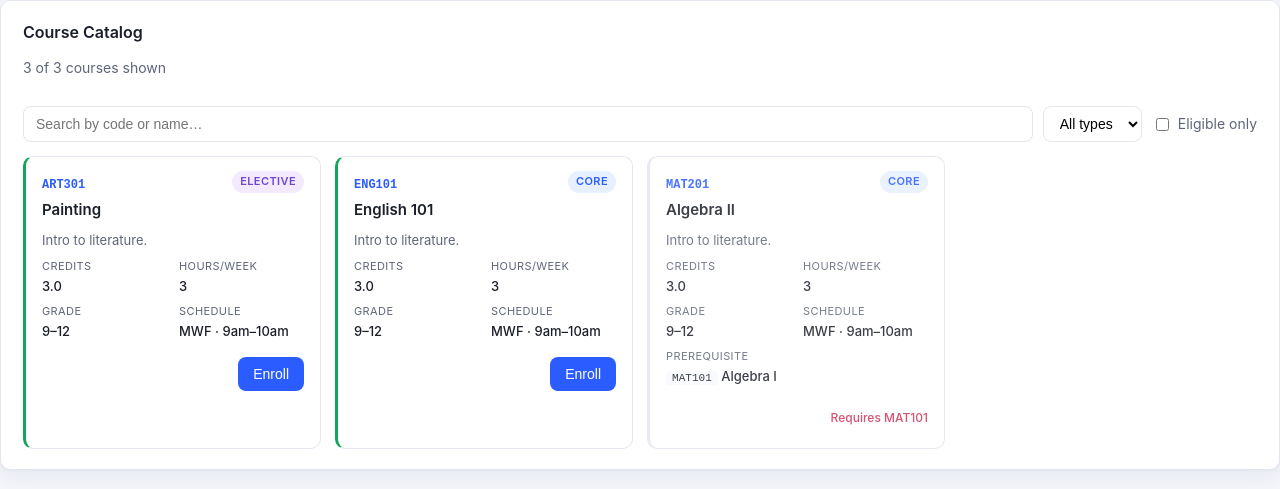
Test: CourseBrowser › filters by course type via the dropdown
This screenshot has width=1280, height=489.
Expected: the text "ENG101" is shown, [354,178,397,192]
Select "Elective" in the dropdown at (1092, 124), box [1043,106,1142,142]
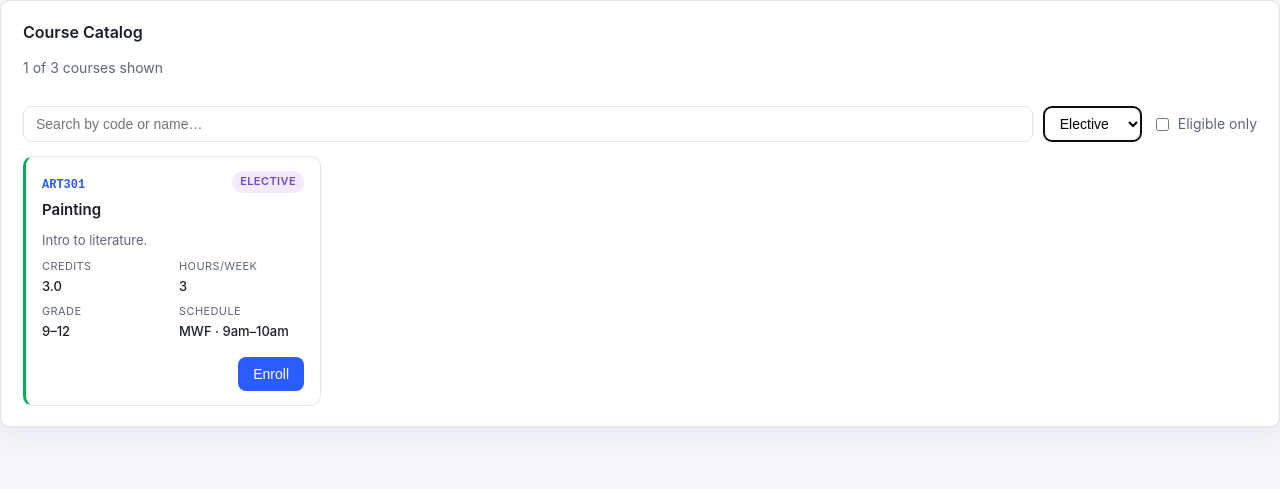
Expected: the text "ART301" is shown, [42,178,85,192]
Now the text "ENG101" is gone
Now the text "MAT201" is gone
